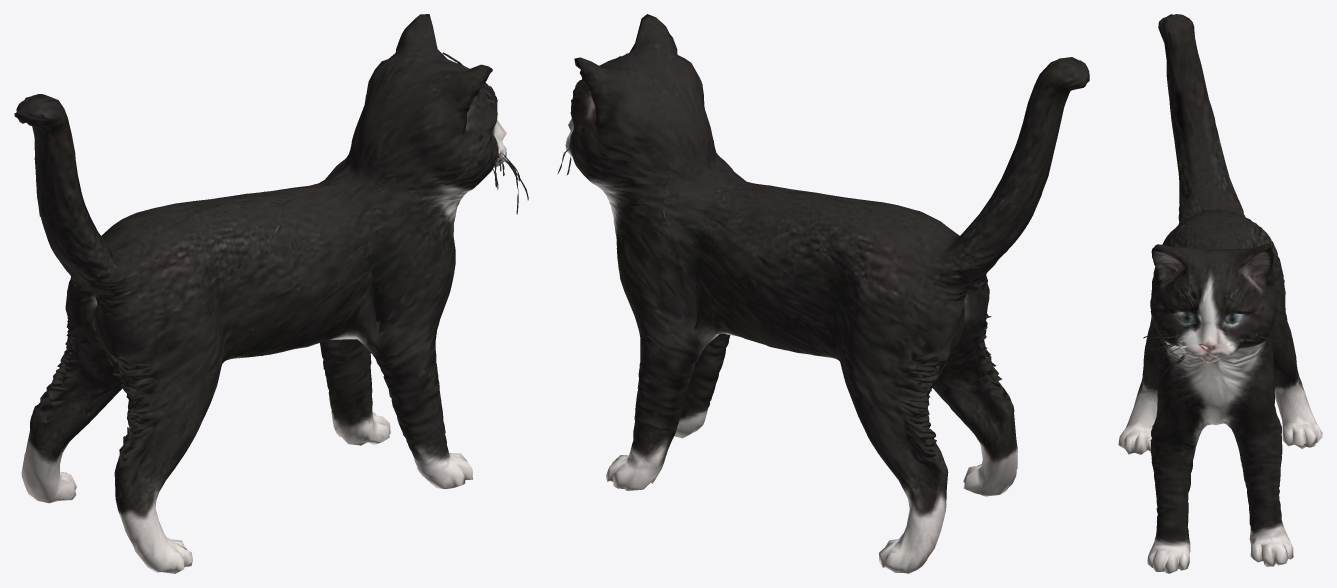
File: TUXSTAN-lo.glb
3 views of the same model, side by side, from view 1: azimuth 30°, elevation 25°; view 2: azimuth 150°, elevation 25°; view 3: azimuth 270°, elevation 25° (orthographic). The views are drawn at different scales.
Parts seen in each view (by area): view 1: tripo_node_3d8aab39-5a5a-4848-9a46-3afac90ebadc; view 2: tripo_node_3d8aab39-5a5a-4848-9a46-3afac90ebadc; view 3: tripo_node_3d8aab39-5a5a-4848-9a46-3afac90ebadc.
Part boxes in pixels (x1,y1,x2,y2): tripo_node_3d8aab39-5a5a-4848-9a46-3afac90ebadc: (14,14,528,573); tripo_node_3d8aab39-5a5a-4848-9a46-3afac90ebadc: (557,14,1089,573); tripo_node_3d8aab39-5a5a-4848-9a46-3afac90ebadc: (1118,14,1322,573).
Bounding box in the file's own units: 1.1 × 0.999 × 0.4729.
1 material, 1 textured.
